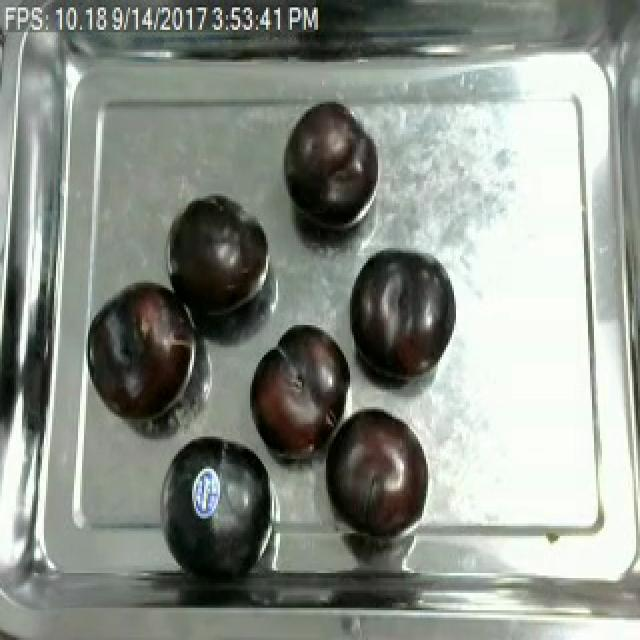Fruit: (154, 426, 282, 586), (240, 317, 358, 469), (84, 275, 200, 429), (342, 243, 456, 387), (322, 402, 434, 538), (164, 191, 272, 322), (278, 97, 378, 230)
